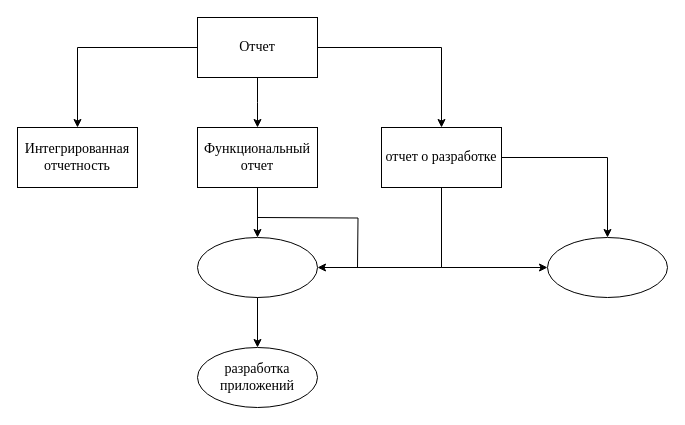
This 685x425 diagram has some shape labels left out. The shapes that lost their labels are listed below. From the top down, each one's box as (x1, y1, x2, y2) in pixels, then its label:
(196, 236, 318, 298): проект
(546, 236, 668, 298): бизнес-процесс
